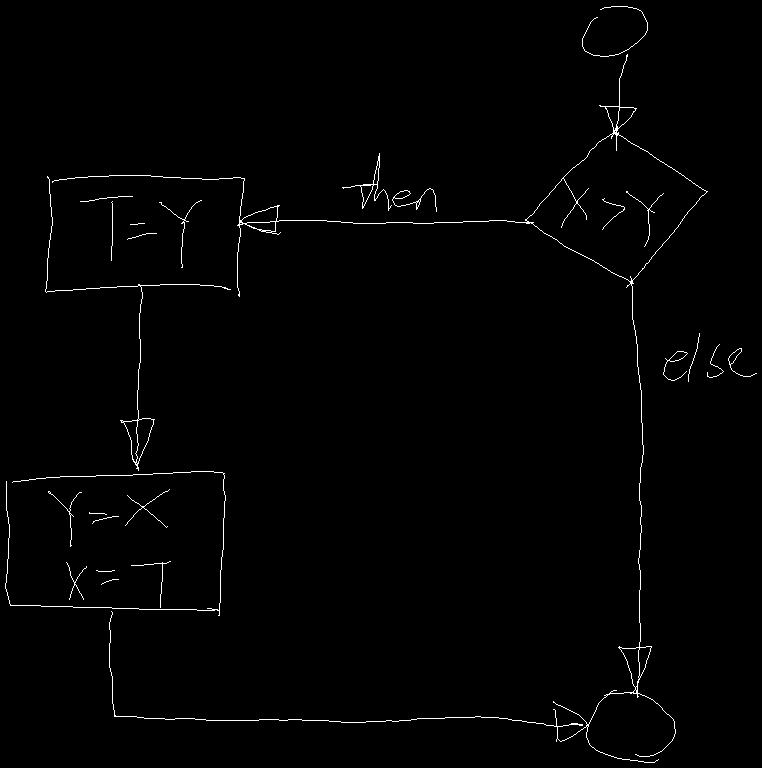arrow: (109, 611, 587, 741), (618, 276, 651, 697), (237, 205, 533, 234), (120, 284, 154, 470), (599, 54, 636, 150)
connection: (586, 690, 675, 762), (582, 6, 647, 56)
decision: (525, 126, 707, 287)
process: (5, 471, 225, 615), (45, 175, 244, 296)
text: (48, 489, 170, 607), (80, 196, 201, 267), (561, 178, 663, 246), (342, 153, 436, 211), (663, 333, 756, 381)
